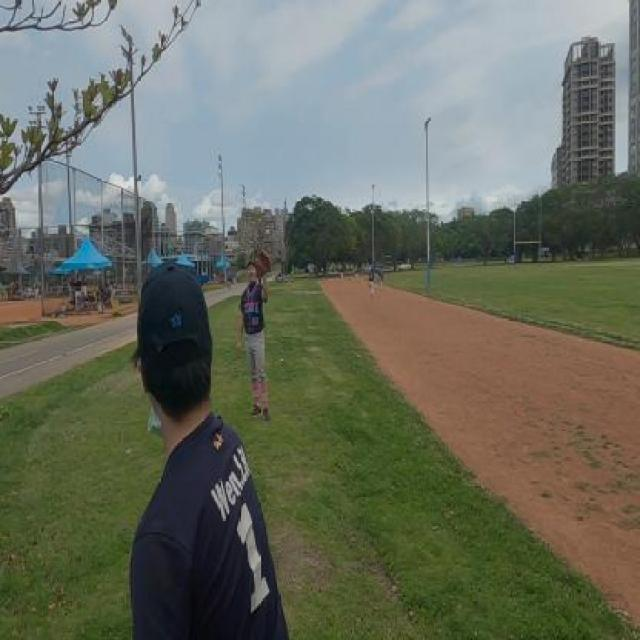baseball: (265, 228, 270, 237)
